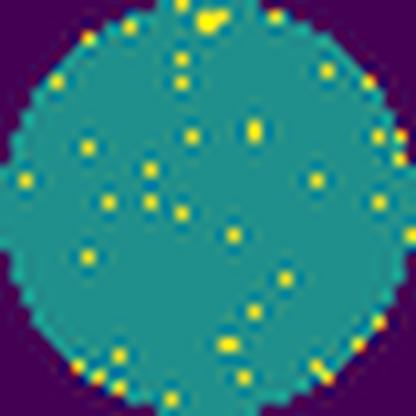Loc: (193, 9, 232, 35)
